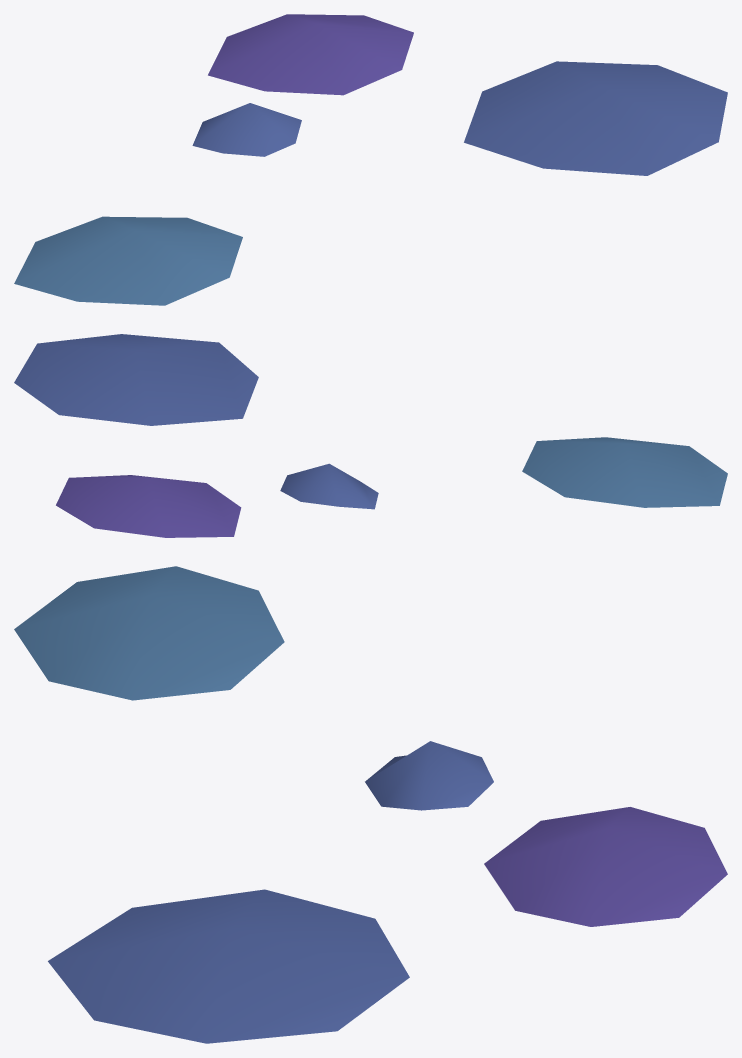
The model's file is Veg_03.FBX.
The picture shows the model from 3 angles, top to bottom: view 1: azimuth 30°, elevation 25°; view 2: azimuth 150°, elevation 25°; view 3: azimuth 270°, elevation 25°; orthographic projection. The views are drawn at different scales.
Parts seen in each view (by area): view 1: Veg_03; view 2: Veg_03; view 3: Veg_03.
Part boxes in pixels (box(x1,y1,x2,y2)): Veg_03: box(14, 14, 727, 305); Veg_03: box(14, 334, 727, 537); Veg_03: box(14, 566, 727, 1043).
Bounding box in the file's own units: 14.57 × 0.6581 × 9.04.
